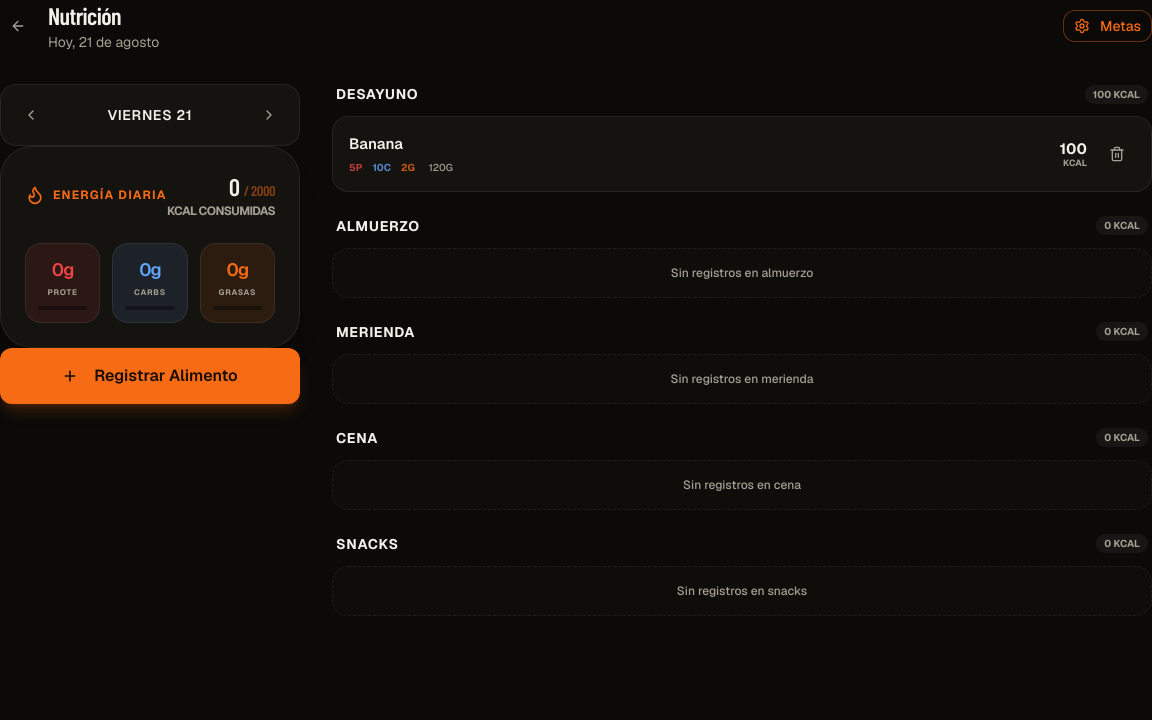
Scenario: nutrition diary — deleting an entry › deletes the entry once the confirmation is accepted
Click the button named "Eliminar". click: (1117, 154)
box: [1099,136,1135,172]
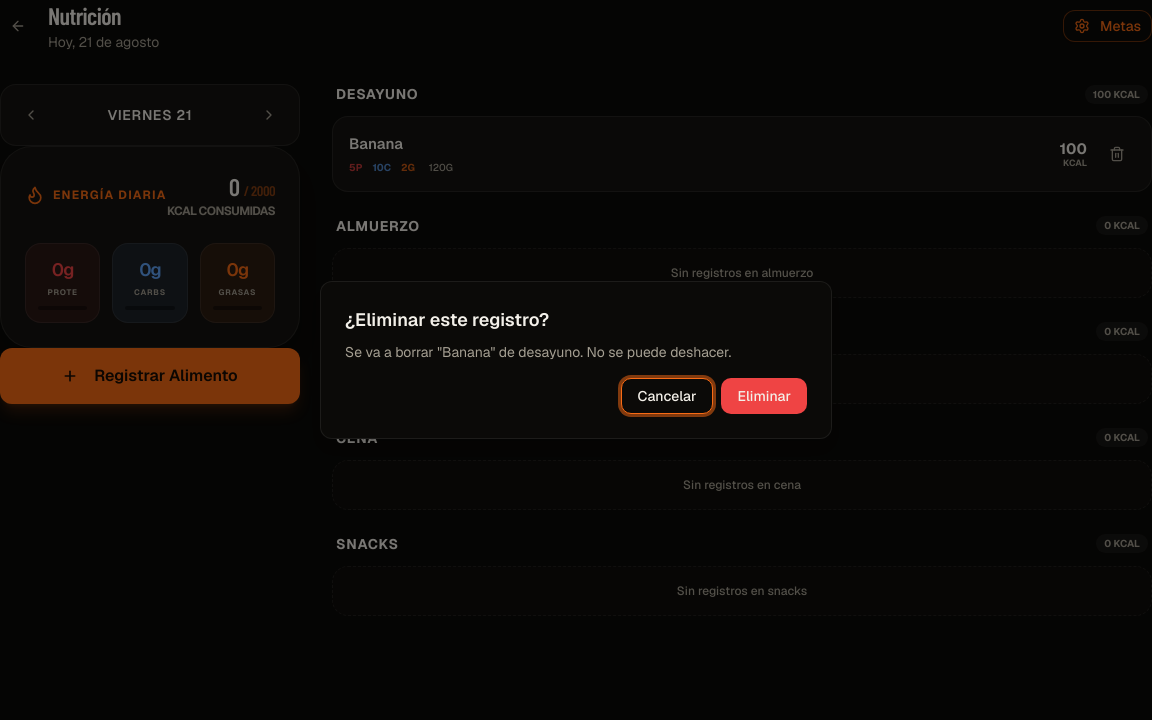
Click the button "Eliminar". click: (764, 396)
box: [722,378,807,414]
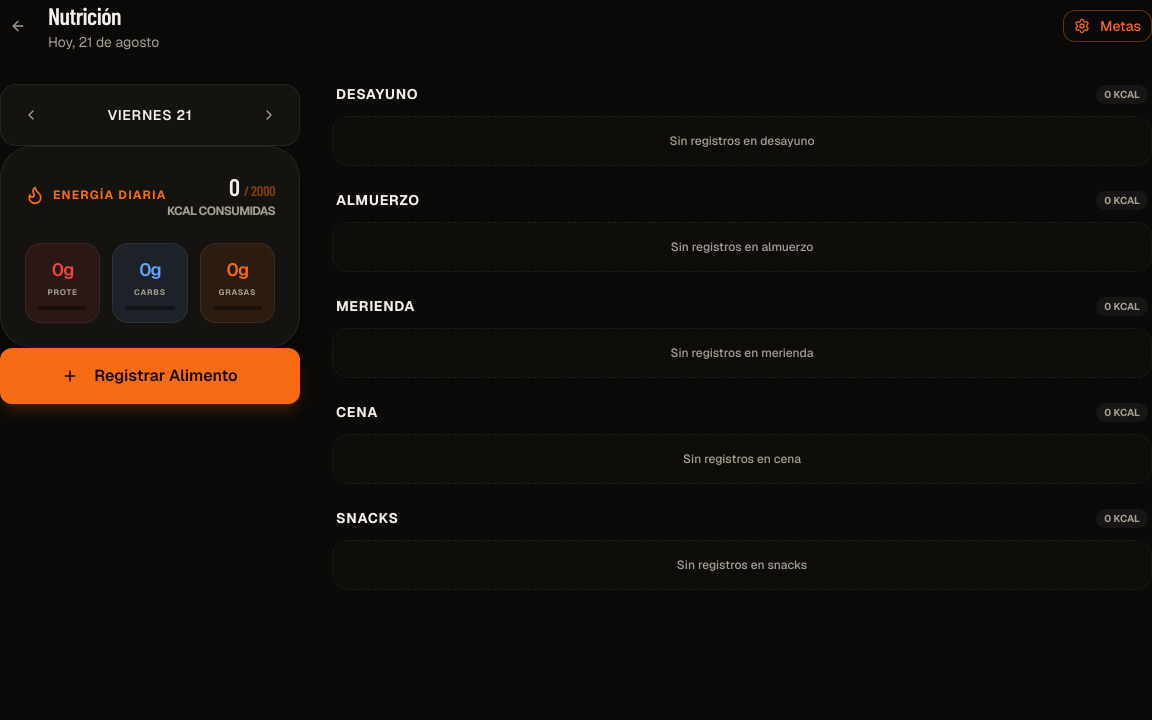
Check: the button "Banana" is gone
